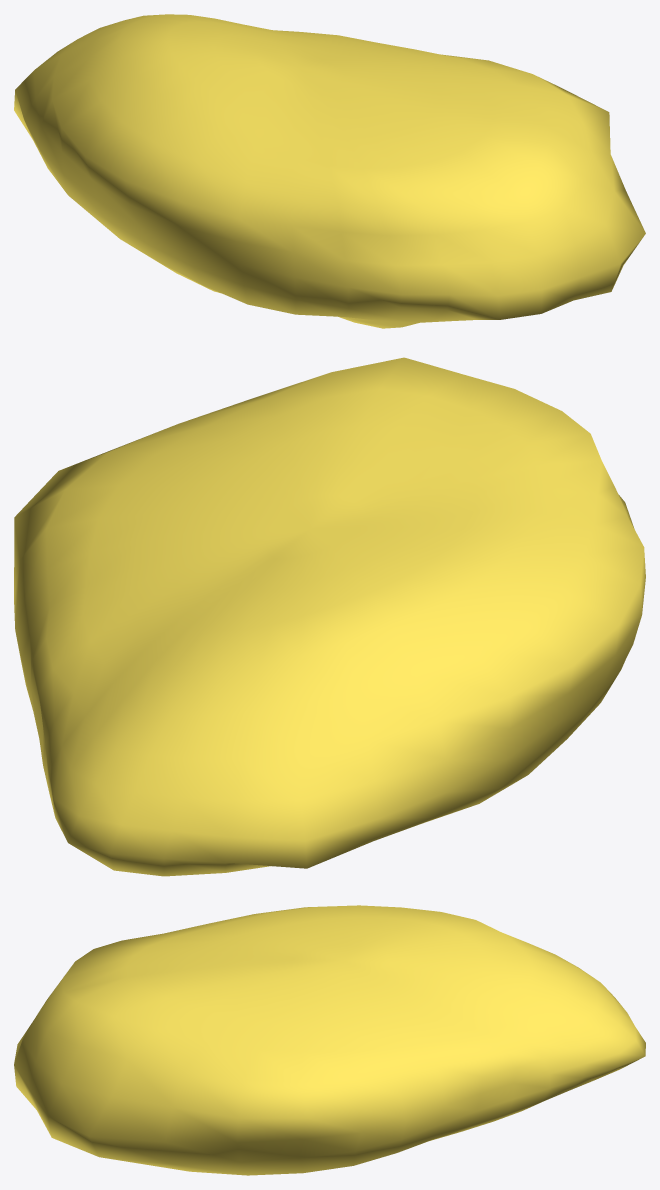
The model's file is Nugget1.fbx.
The picture shows the model from 3 angles, top to bottom: view 1: azimuth 30°, elevation 25°; view 2: azimuth 150°, elevation 25°; view 3: azimuth 270°, elevation 25°; orthographic projection. The views are drawn at different scales.
Parts seen in each view (by area): view 1: ChickenNugget_Raw; view 2: ChickenNugget_Raw; view 3: ChickenNugget_Raw.
Part boxes in pixels (box(x1,y1,x2,y2)): ChickenNugget_Raw: box(14, 14, 645, 328); ChickenNugget_Raw: box(14, 357, 645, 876); ChickenNugget_Raw: box(14, 905, 645, 1175).
Bounding box in the file's own units: 10.74 × 4.34 × 14.98.
